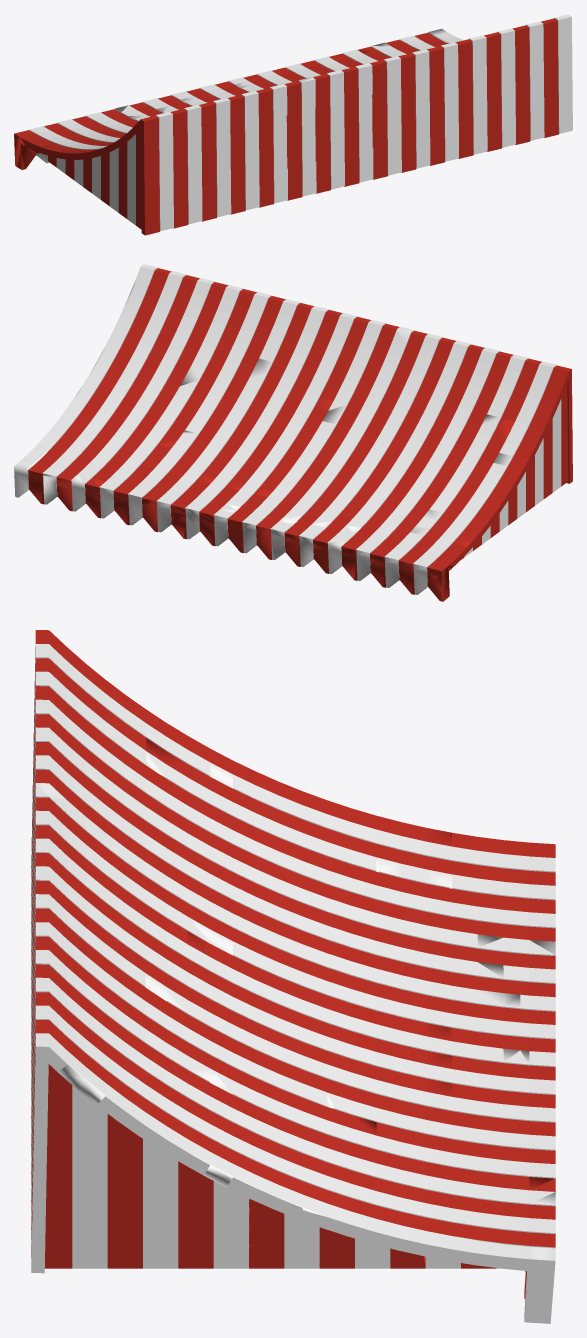
Rendered from ep5t-mai-hien.glb.
3 renders of one model, top to bottom at view 1: azimuth 30°, elevation 25°; view 2: azimuth 150°, elevation 25°; view 3: azimuth 270°, elevation 25°, orthographic. The views are drawn at different scales.
Visible parts, largest first — view 1: ep5t-mai-hien; view 2: ep5t-mai-hien; view 3: ep5t-mai-hien.
Part boxes in pixels (box(x1,y1,x2,y2)): ep5t-mai-hien: box(14, 14, 572, 235); ep5t-mai-hien: box(14, 264, 572, 601); ep5t-mai-hien: box(31, 630, 555, 1323).
Bounding box in the file's own units: 13.99 × 4.35 × 7.42.
